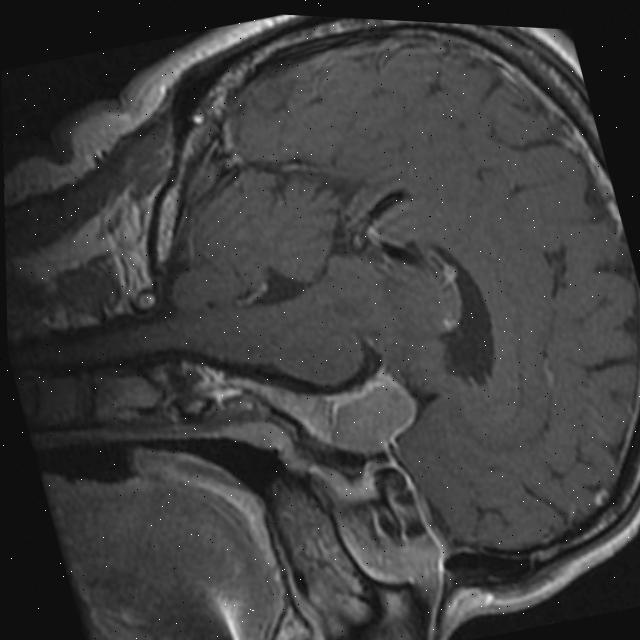Pituitary: (293, 361, 427, 472)
